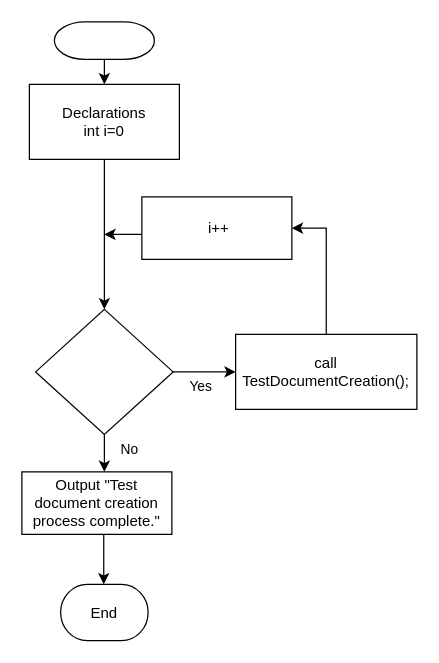
Image size: 439x663. Some labels were removed from this diagram. Each missing label, with the centre of its shape:
is i < 50: the point at 103,371
Start: the point at 103,40
